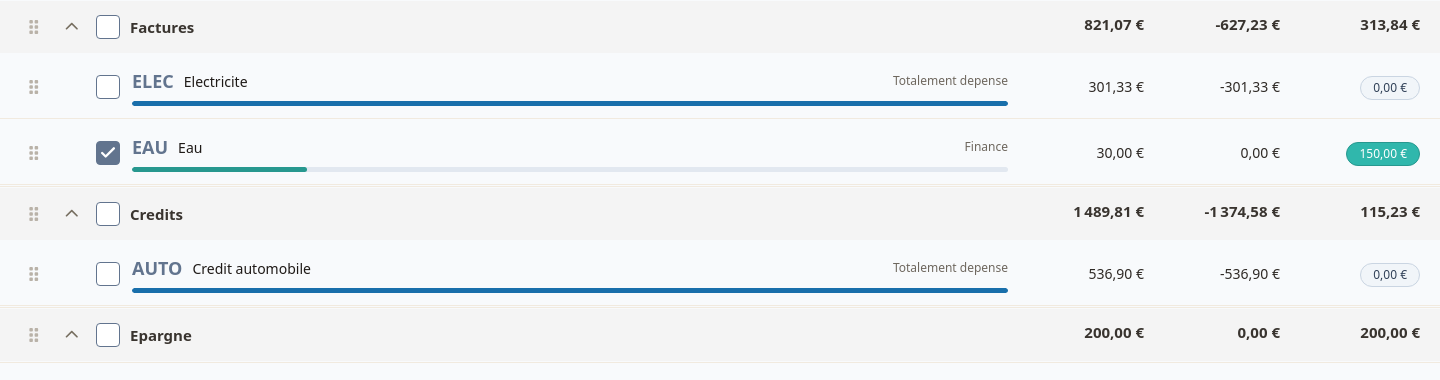
Test case: BudgetCategoryContainer › collapses a group locally when clicking its chevron even without parent state updates
Click the button named "Replier Factures".
click(72, 27)  # box [58,13,86,41]
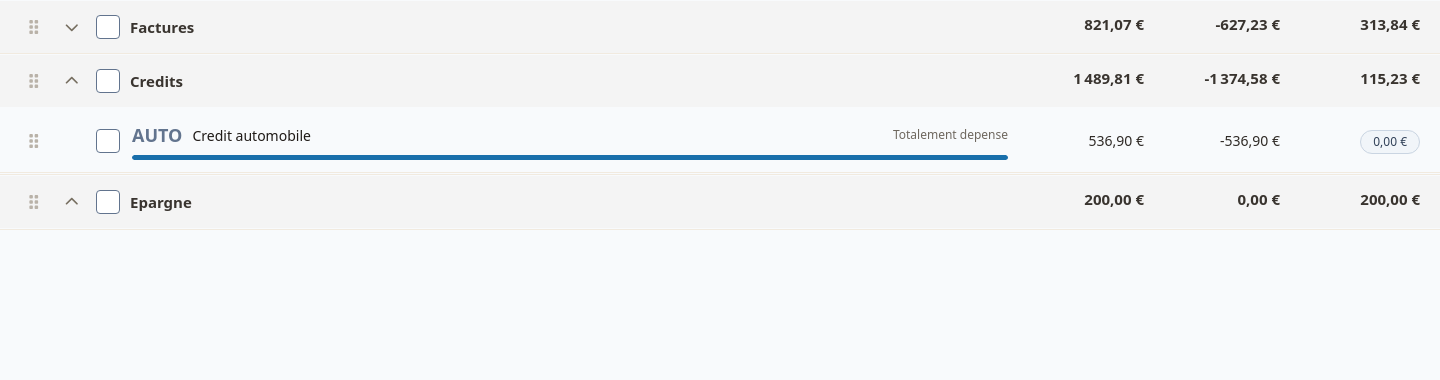
Expected: the button named "Afficher Factures" is collapsed, [58,13,86,41]
